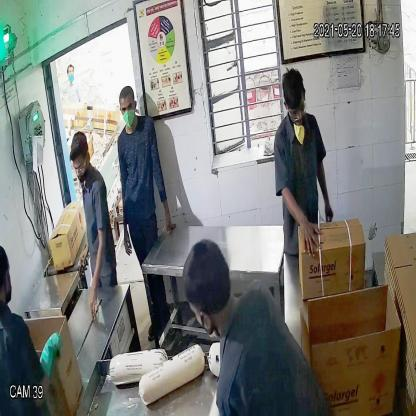goggles: (286, 100, 309, 122), (69, 157, 89, 173)
no_goggles: (118, 101, 137, 116)
